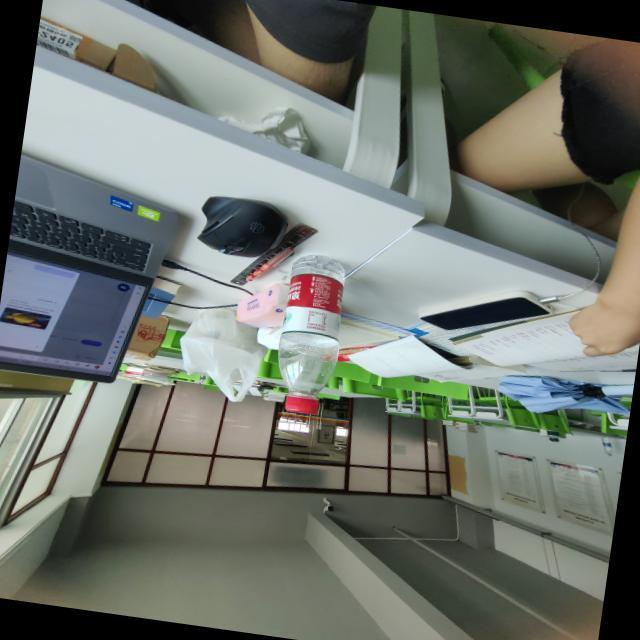good: (268, 246, 352, 419)
